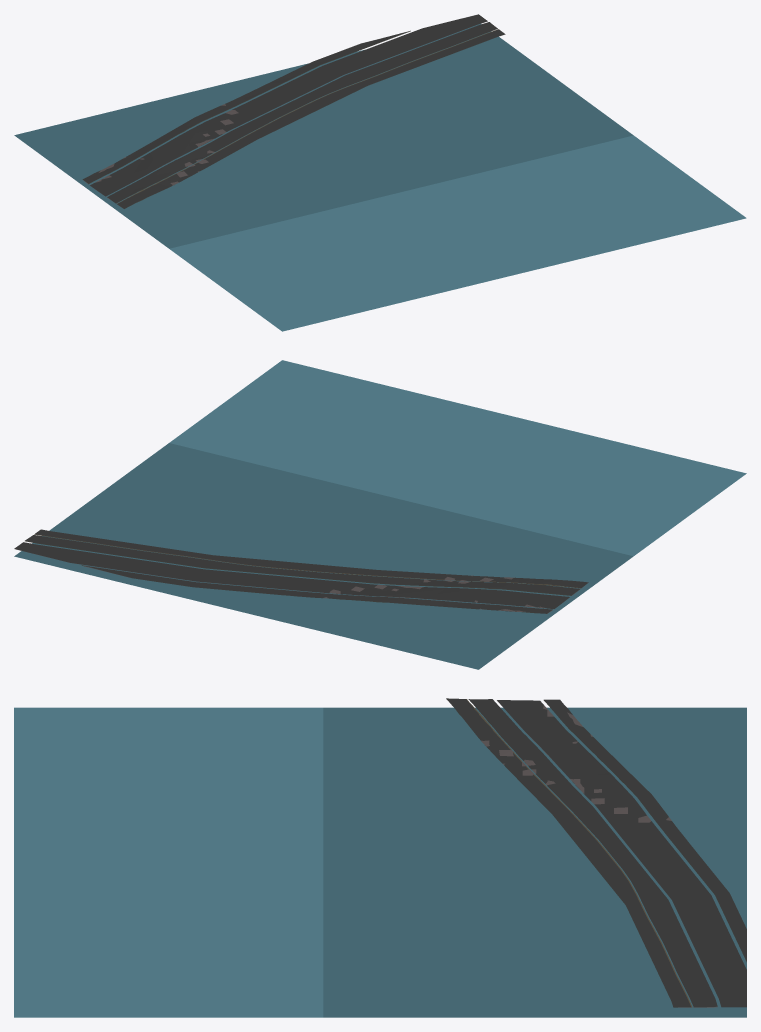
3 renders of one model, top to bottom at view 1: azimuth 30°, elevation 25°; view 2: azimuth 150°, elevation 25°; view 3: azimuth 270°, elevation 25°, orthographic. The views are drawn at different scales.
Parts seen in each view (by area): view 1: append:c_p05_m08, c_p05_m08; view 2: append:c_p05_m08, c_p05_m08; view 3: append:c_p05_m08, c_p05_m08.
Part boxes in pixels (bbox=[...]): append:c_p05_m08: bbox=[14, 14, 633, 248]; c_p05_m08: bbox=[169, 135, 746, 331]; append:c_p05_m08: bbox=[14, 443, 633, 669]; c_p05_m08: bbox=[169, 360, 746, 556]; append:c_p05_m08: bbox=[323, 698, 746, 1017]; c_p05_m08: bbox=[14, 707, 323, 1017].
Size of the model in its own units: 128 by 2.12 by 128.
